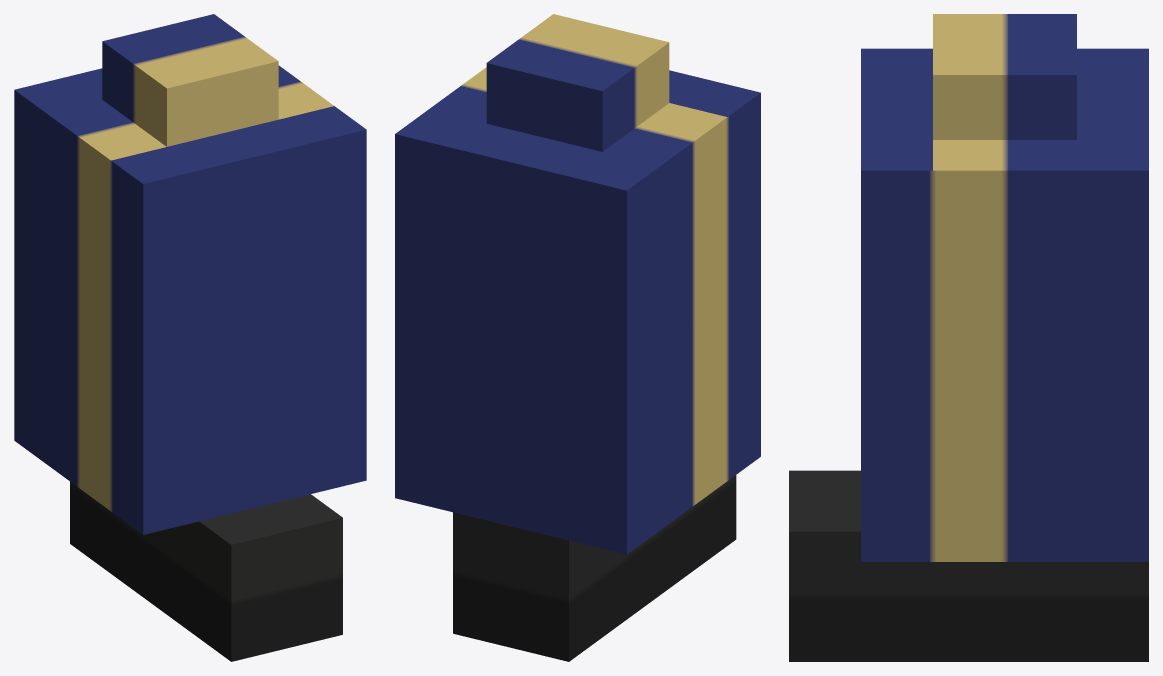
The model's file is Knee068.fbx.
The picture shows the model from 3 angles, left to right: view 1: azimuth 30°, elevation 25°; view 2: azimuth 150°, elevation 25°; view 3: azimuth 270°, elevation 25°; orthographic projection. The views are drawn at different scales.
Visible parts, largest first — view 1: Knee068; view 2: Knee068; view 3: Knee068.
Boxes of the visible parts, <box> form: Knee068: <box>14,14,366,661</box>; Knee068: <box>395,14,760,661</box>; Knee068: <box>789,14,1148,661</box>.
Size of the model in its own units: 4 by 9 by 5.
